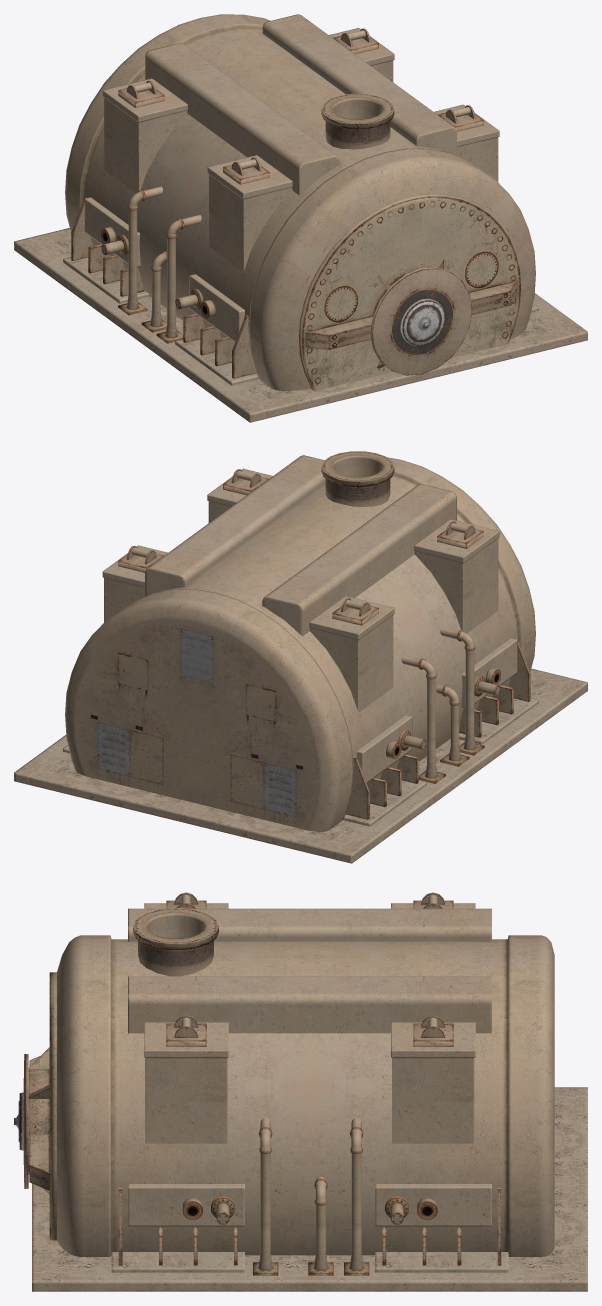
The model's file is sm22_056_geothermalturbine01a.fbx.
The picture shows the model from 3 angles, top to bottom: view 1: azimuth 30°, elevation 25°; view 2: azimuth 150°, elevation 25°; view 3: azimuth 270°, elevation 25°; orthographic projection. The views are drawn at different scales.
Visible parts, largest first — view 1: LOD_1_Group_1_Sub_1__sm22_056_GeoThermalTurbine01A_A_Mat1, LOD_1_Group_0_Sub_1__sm22_056_GeoThermalTurbine01A_A_Mat; view 2: LOD_1_Group_0_Sub_1__sm22_056_GeoThermalTurbine01A_A_Mat, LOD_1_Group_1_Sub_1__sm22_056_GeoThermalTurbine01A_A_Mat1; view 3: LOD_1_Group_0_Sub_1__sm22_056_GeoThermalTurbine01A_A_Mat, LOD_1_Group_1_Sub_1__sm22_056_GeoThermalTurbine01A_A_Mat1.
Boxes of the visible parts, x1=… form: LOD_1_Group_1_Sub_1__sm22_056_GeoThermalTurbine01A_A_Mat1: x1=14, y1=14, x2=587, y2=422; LOD_1_Group_0_Sub_1__sm22_056_GeoThermalTurbine01A_A_Mat: x1=65, y1=14, x2=535, y2=391; LOD_1_Group_0_Sub_1__sm22_056_GeoThermalTurbine01A_A_Mat: x1=65, y1=457, x2=535, y2=831; LOD_1_Group_1_Sub_1__sm22_056_GeoThermalTurbine01A_A_Mat1: x1=14, y1=451, x2=587, y2=863; LOD_1_Group_0_Sub_1__sm22_056_GeoThermalTurbine01A_A_Mat: x1=49, y1=935, x2=554, y2=1256; LOD_1_Group_1_Sub_1__sm22_056_GeoThermalTurbine01A_A_Mat1: x1=14, y1=892, x2=587, y2=1291.
Size of the model in its own units: 4.14 by 2.67 by 5.17.
